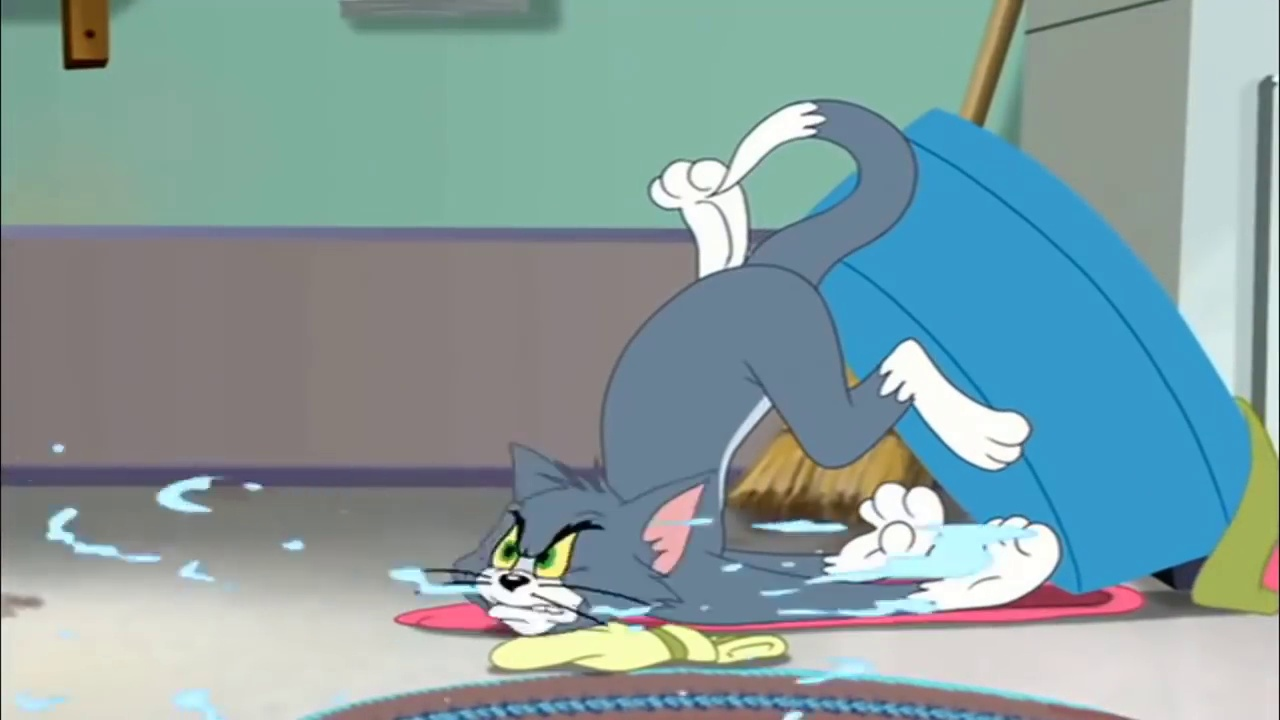face: (455, 497, 657, 626)
